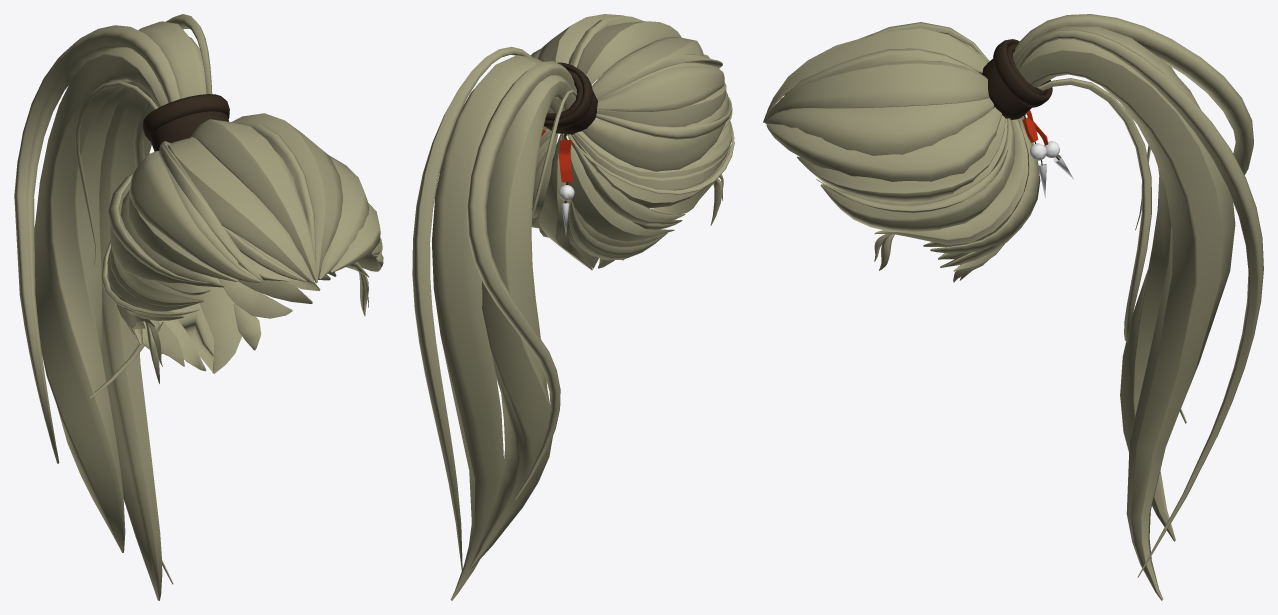
Rendered from SM_Hair_Ponytail.fbx.
3 views of the same model, side by side, from view 1: azimuth 30°, elevation 25°; view 2: azimuth 150°, elevation 25°; view 3: azimuth 270°, elevation 25° (orthographic). The views are drawn at different scales.
Visible parts, largest first — view 1: SM_Hair_Ponytail; view 2: SM_Hair_Ponytail; view 3: SM_Hair_Ponytail.
Part boxes in pixels (x1,y1,x2,y2): SM_Hair_Ponytail: (14, 14, 383, 600); SM_Hair_Ponytail: (412, 14, 734, 600); SM_Hair_Ponytail: (763, 14, 1263, 600).
Bounding box in the file's own units: 17.45 × 40.97 × 32.82.
